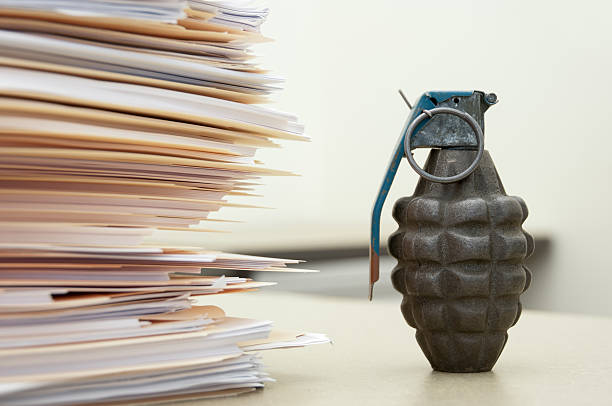e1: (369, 88, 534, 382)
